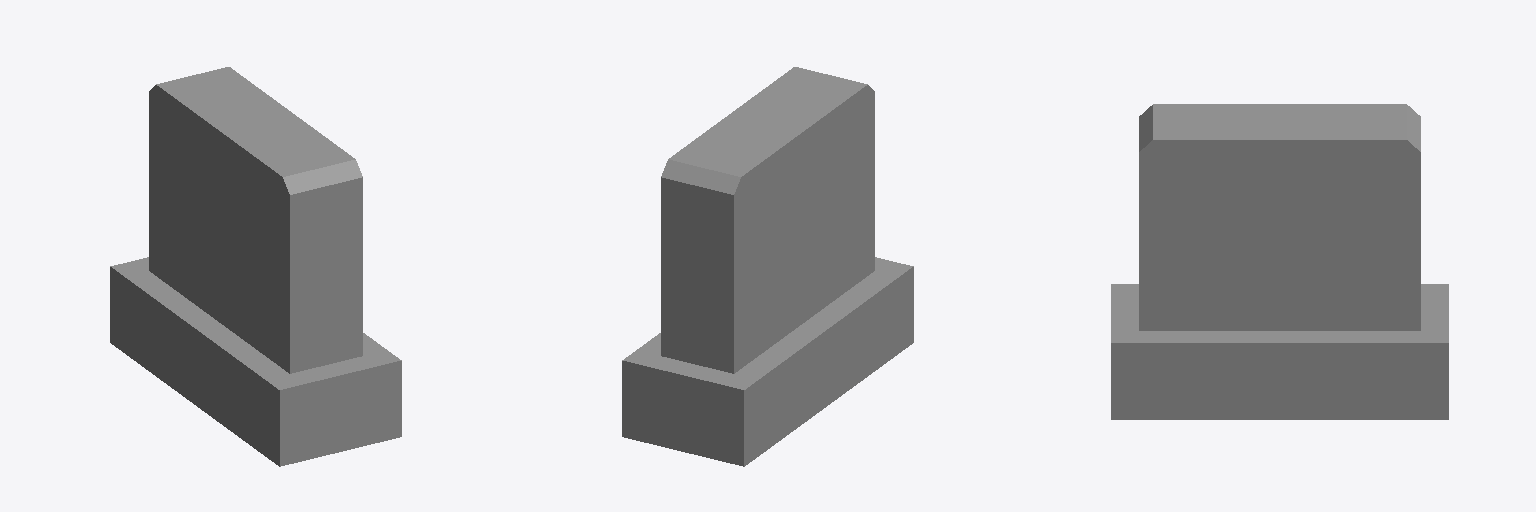
The model's file is grave1.obj.
3 renders of one model, left to right at view 1: azimuth 30°, elevation 25°; view 2: azimuth 150°, elevation 25°; view 3: azimuth 270°, elevation 25°, orthographic.
Parts seen in each view (by area): view 1: Cube; view 2: Cube; view 3: Cube.
Boxes of the visible parts, <box> form: Cube: <box>110,67,401,466</box>; Cube: <box>622,67,913,466</box>; Cube: <box>1111,104,1448,419</box>.
Size of the model in its own units: 0.2 by 0.42 by 0.48.